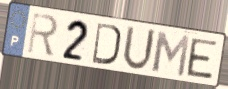2: (59, 17, 91, 64)
D: (90, 21, 122, 68)
E: (185, 36, 219, 81)
M: (151, 29, 192, 79)
R: (26, 11, 61, 58)
U: (120, 23, 158, 73)
